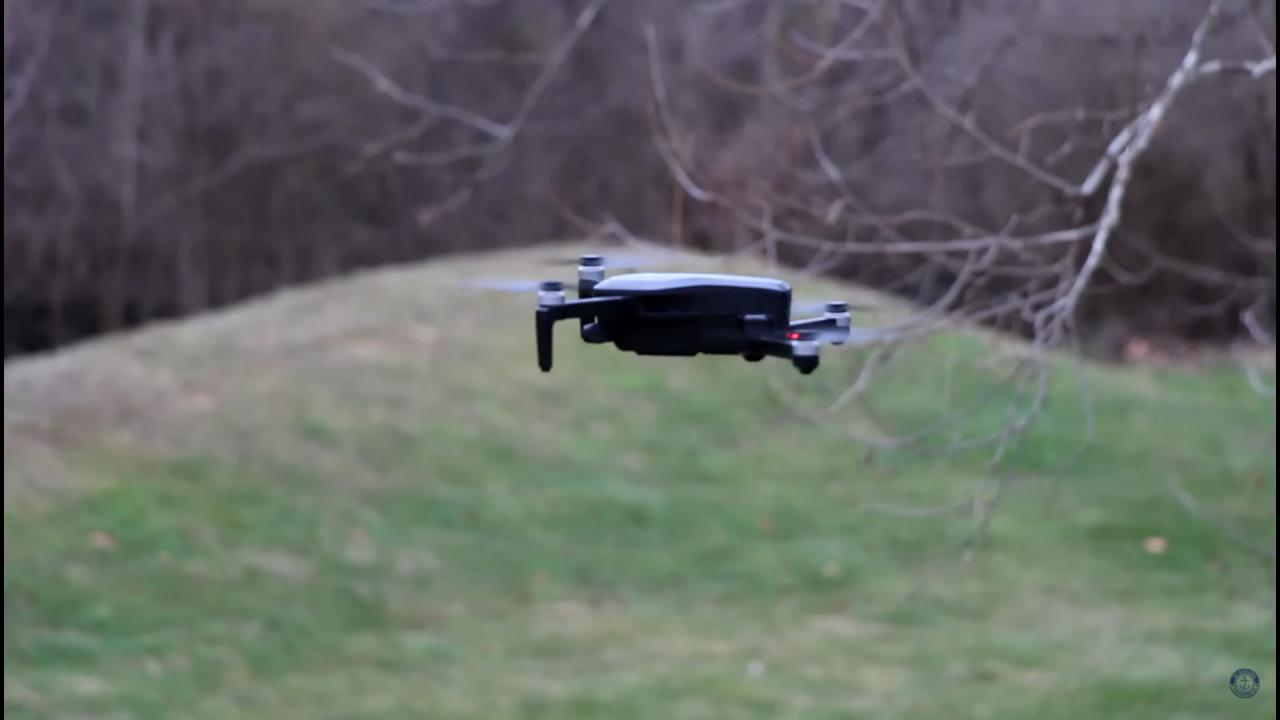Drone: (423, 242, 925, 390)
